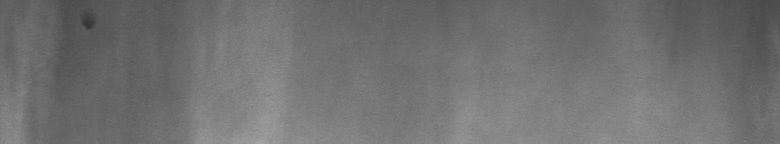fi: (78, 15, 95, 36)
